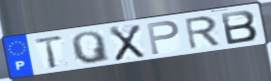B: (219, 8, 260, 46)
P: (145, 19, 182, 57)
Q: (69, 30, 112, 65)
R: (183, 15, 223, 51)
T: (33, 33, 65, 70)
X: (107, 23, 147, 63)
